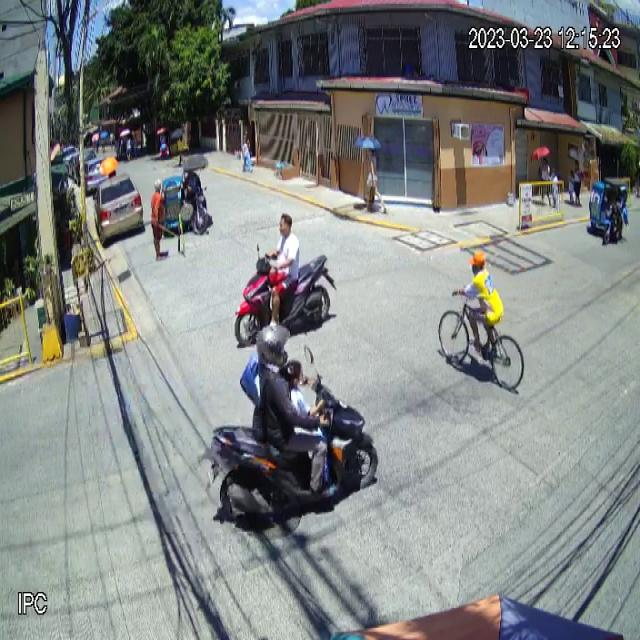Car: (94, 173, 144, 245)
Motorcycle: (207, 343, 378, 531), (233, 241, 338, 344)
